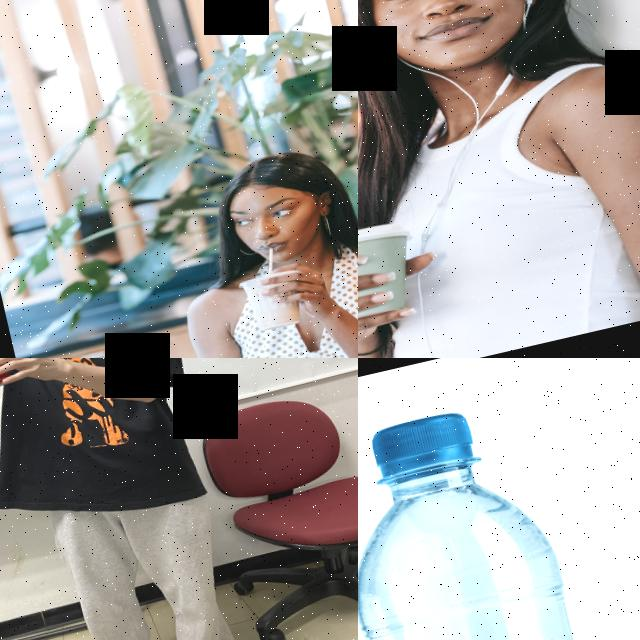bottle: (358, 393, 640, 640)
cup: (358, 216, 426, 325), (236, 265, 310, 336)
